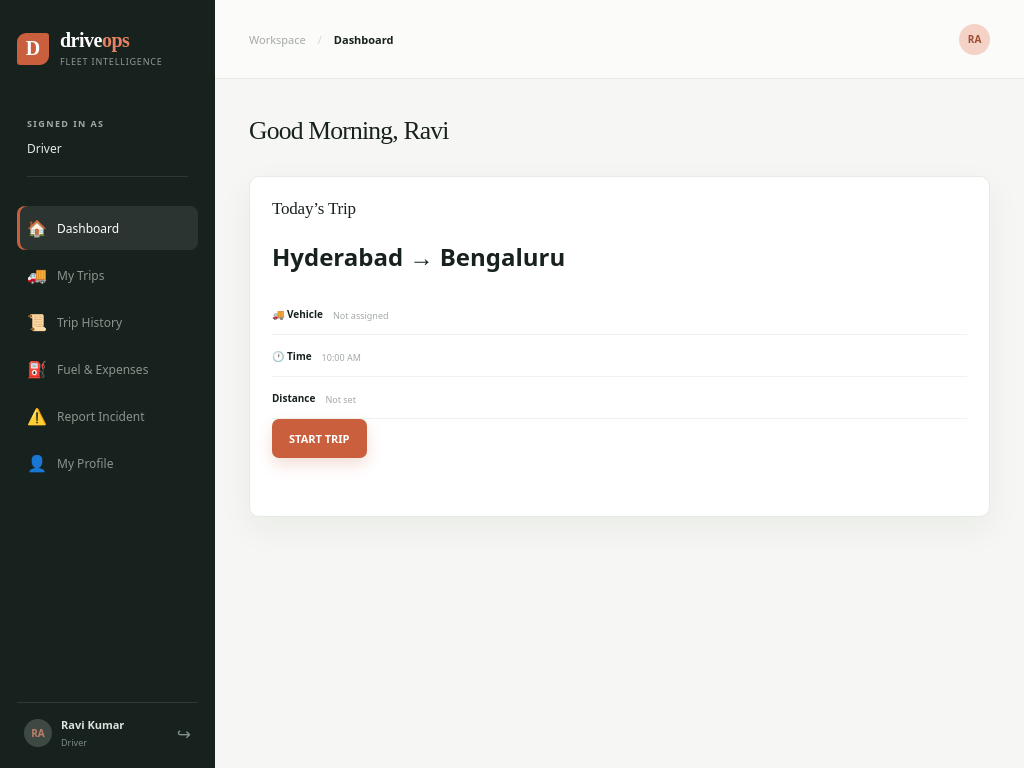
Test: shows each fuel purchase once while retaining other driver expenses
expect the heading "Good Morning, Ravi" is shown: met, box left=249, top=117, right=449, bottom=145
What coordinates should you click on to do the following:
click the button "⛽ Fuel & Expenses"
I would click on:
 (108, 369)
Its box is left=17, top=347, right=198, bottom=391.
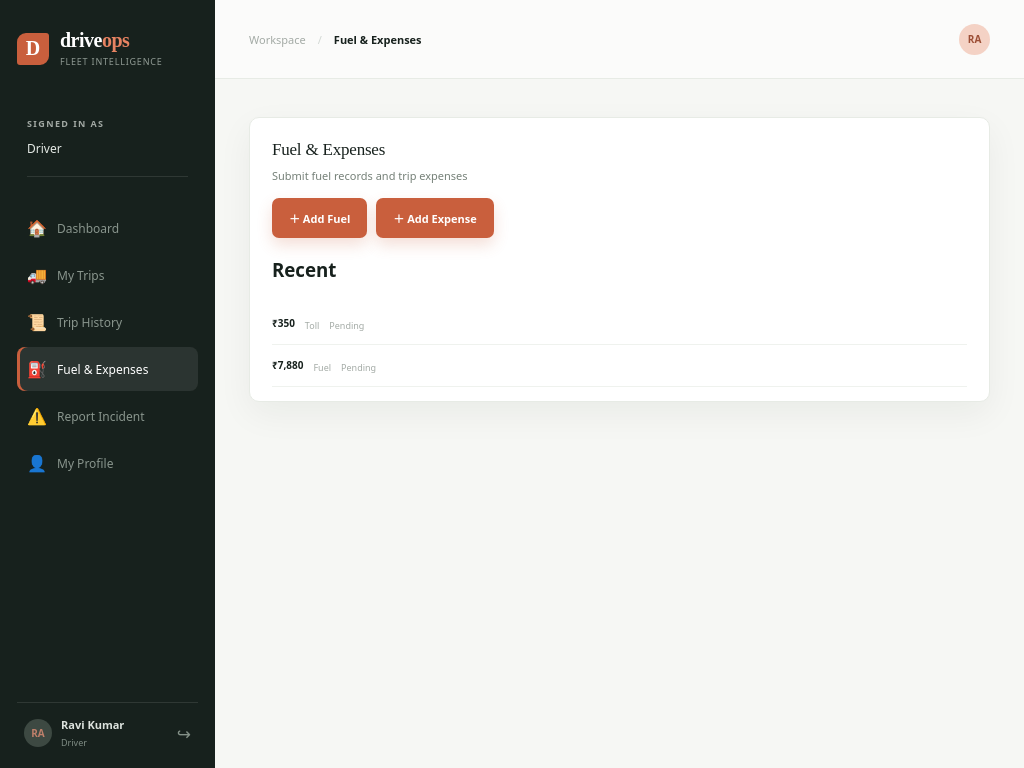
expect the heading "Recent" is shown: met, box left=272, top=257, right=336, bottom=282
expect the text "₹7,880" is shown once: met, box left=272, top=358, right=304, bottom=372
expect the text "Fuel" is shown: met, box left=313, top=361, right=331, bottom=374
